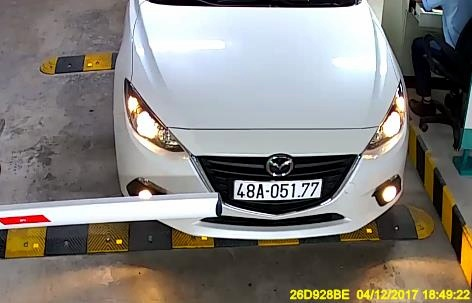plate: (230, 173, 319, 203)
